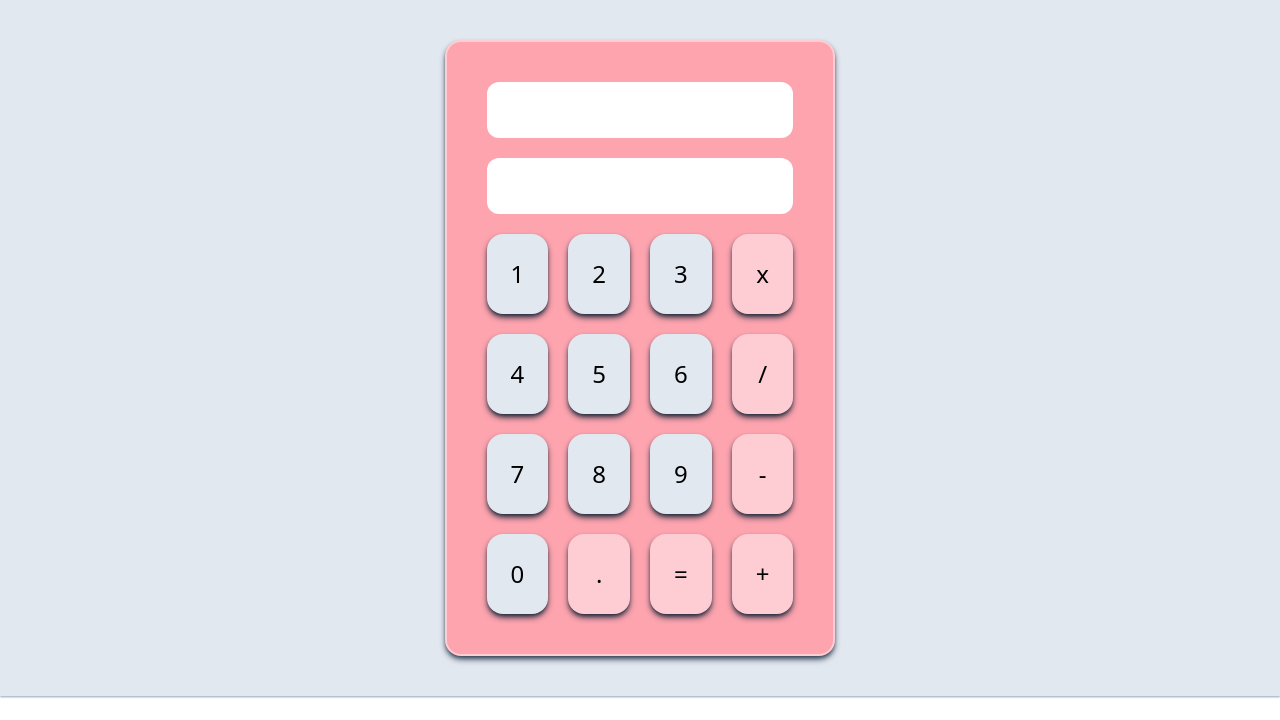
Test: Suma 22 y 3
Click the button "2" at (599, 274), box x1=568 y1=234 x2=630 y2=314
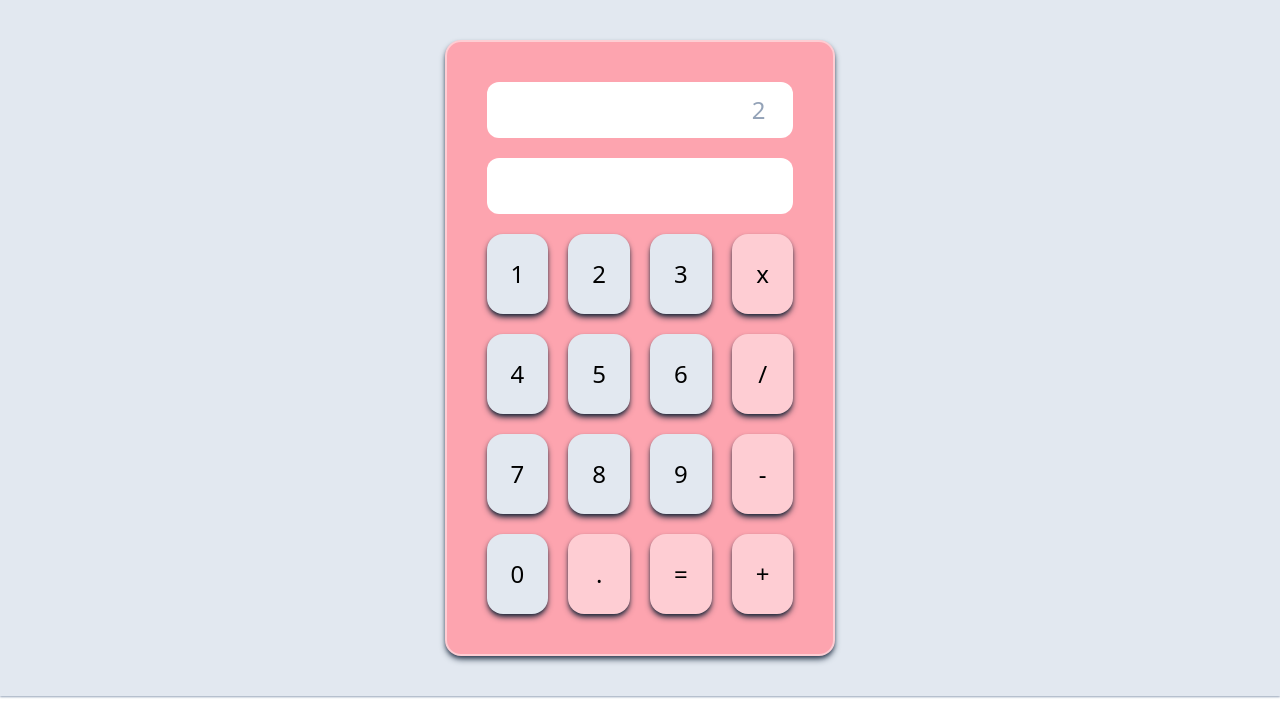
Click the button "2" at (599, 274), box x1=568 y1=234 x2=630 y2=314
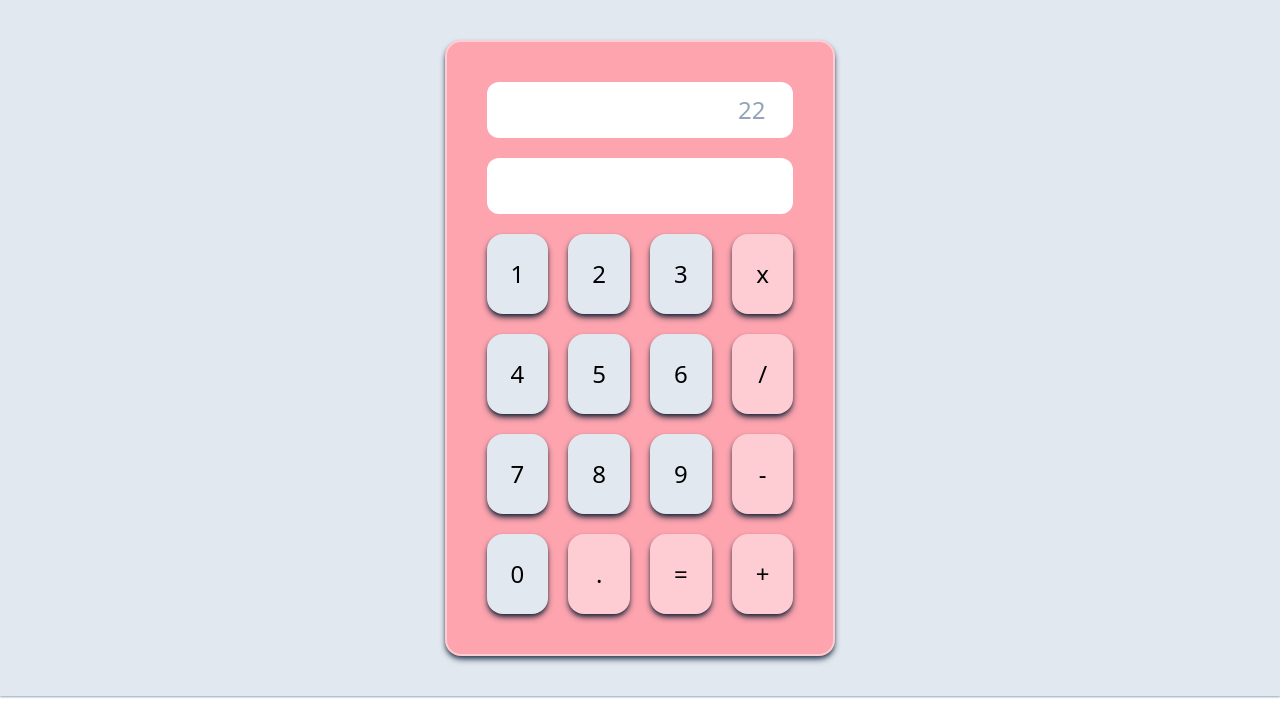
Click the button "+" at (763, 574), box x1=732 y1=534 x2=793 y2=614
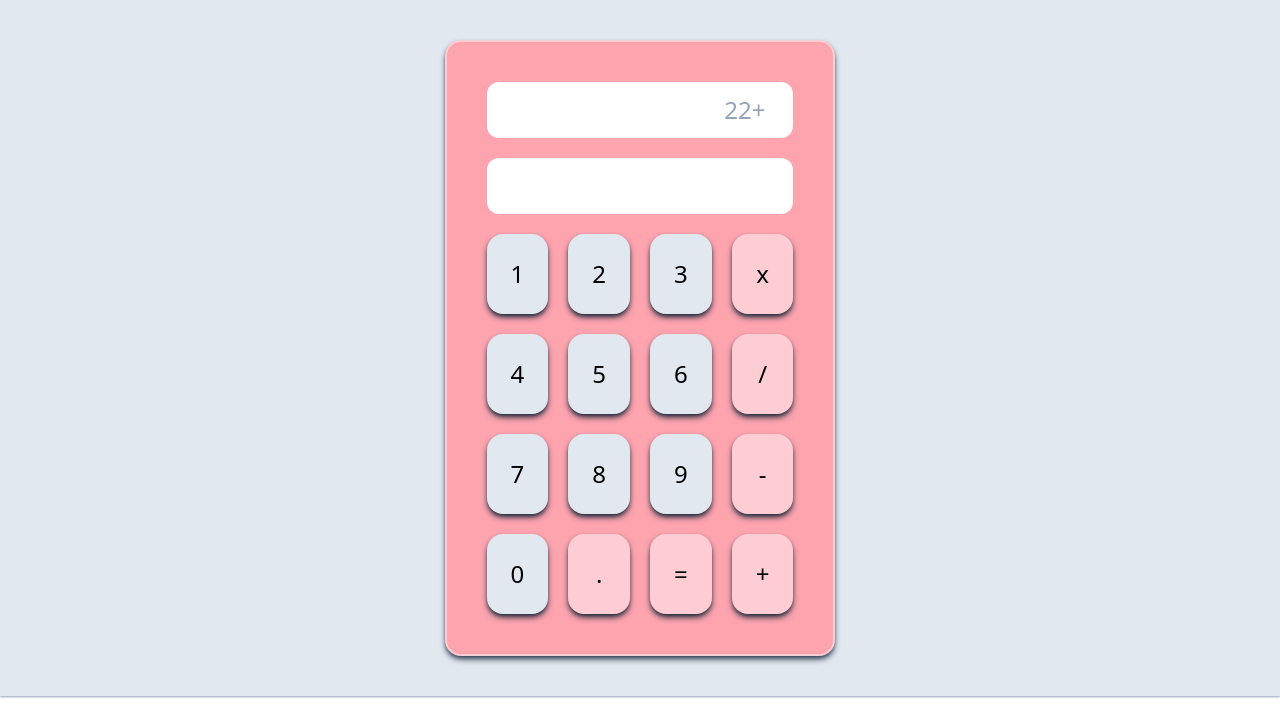
Click the button "3" at (681, 274), box x1=650 y1=234 x2=712 y2=314
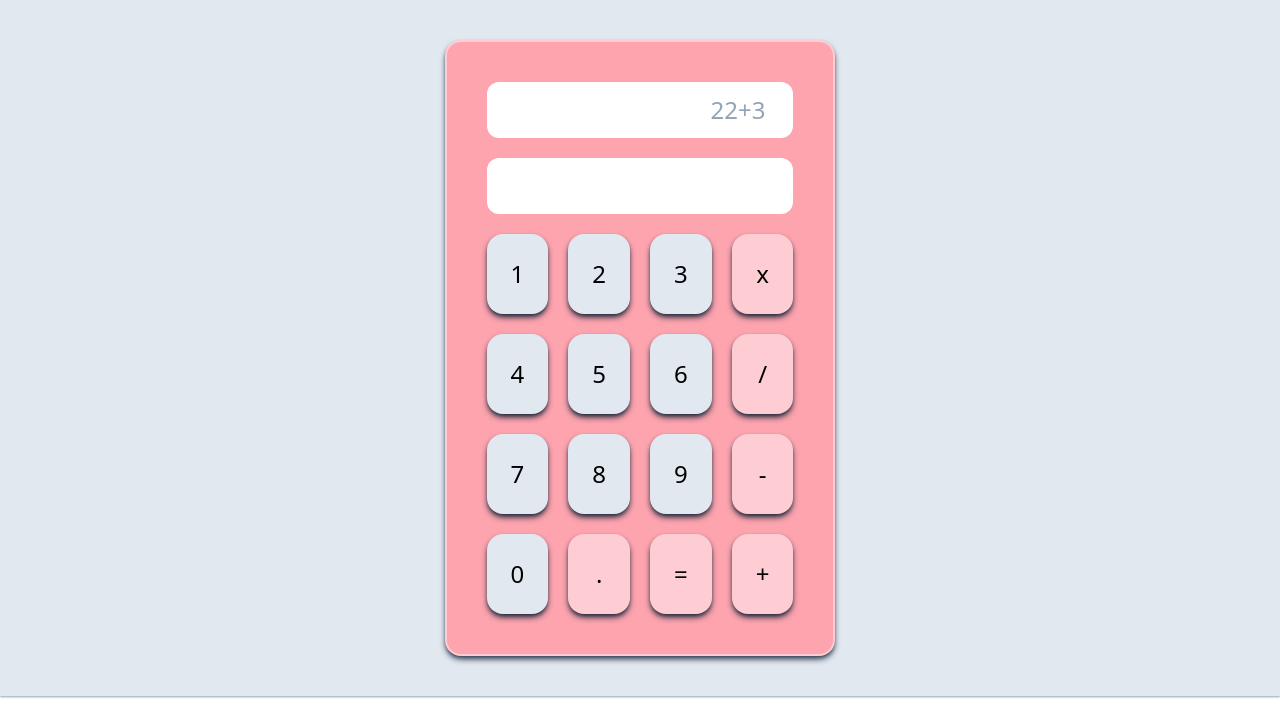
Click the button "=" at (681, 574), box x1=650 y1=534 x2=712 y2=614
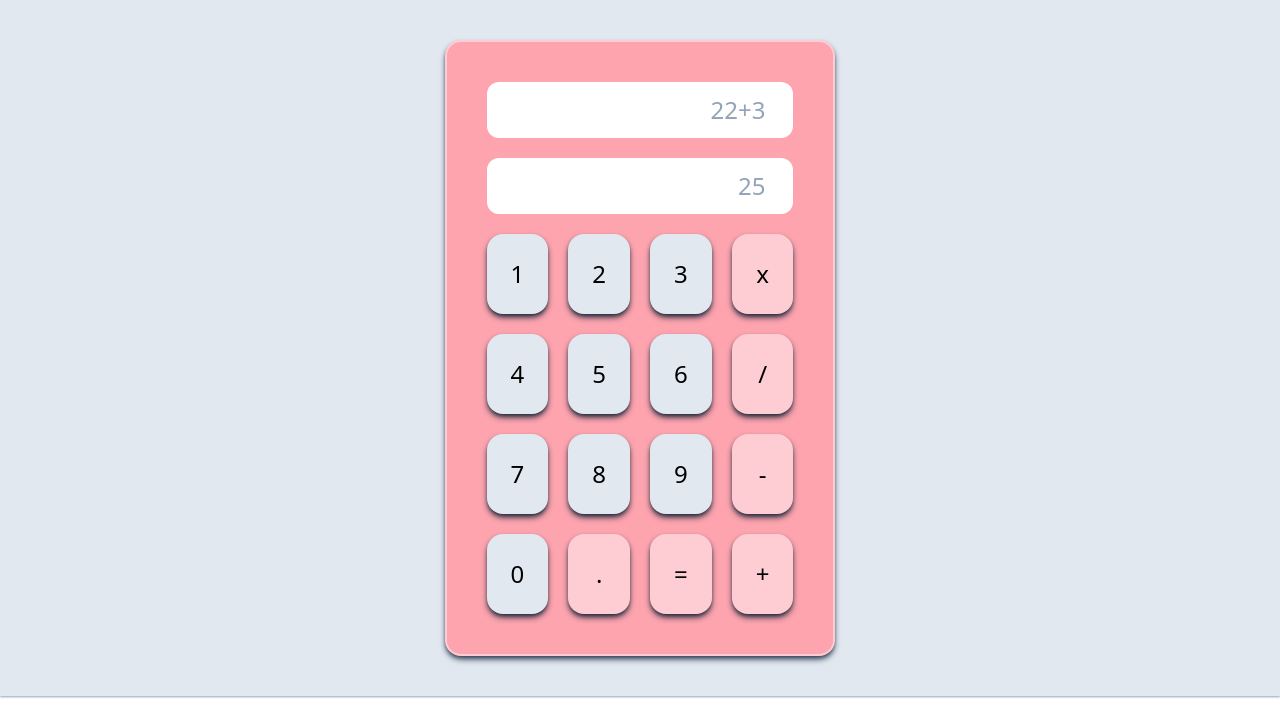
Now the text "25" is shown, box x1=486 y1=158 x2=793 y2=214
